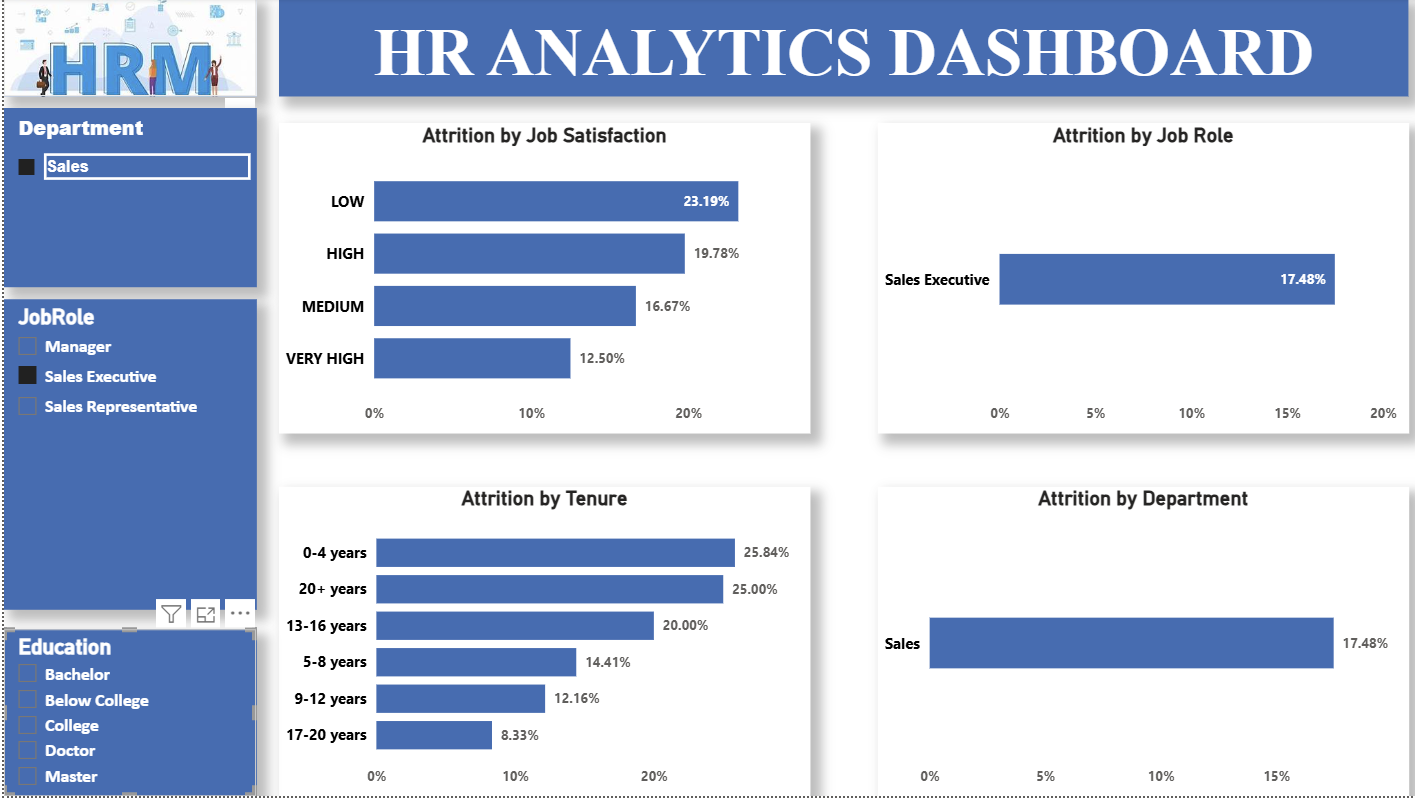

The dashboard page shown, as its layout file describes it:
{"tool":"powerbi","page":{"name":"Page 2","canvas":[1280,720],"ordinal":1},"visuals":[{"type":"textbox","title":"HR ANALYTICS DASHBOARD","box":[248.4,0,1018.2,89.2],"z":0},{"type":"image","box":[0,0,227.8,89.2],"z":1000},{"type":"slicer","fields":{"Values":["hr_cleaned.Department"]},"box":[0,98.8,227.8,161.9],"z":2000},{"type":"slicer","fields":{"Values":["hr_cleaned.JobRole"]},"box":[0,271.7,227.8,279.9],"z":3000},{"type":"slicer","fields":{"Values":["hr_cleaned.Education"]},"box":[0,569.1,227.8,150.9],"z":4000},{"type":"barChart","title":"Attrition by Department","fields":{"Y":["hr_cleaned.Attrition rate"],"Category":["hr_cleaned.Department"]},"box":[787.7,440.5,478.9,279.9],"z":5000},{"type":"barChart","title":"Attrition by Job Role","fields":{"Category":["hr_cleaned.JobRole"],"Y":["hr_cleaned.Attrition rate"]},"box":[787.7,112.5,478.9,279.9],"z":6000},{"type":"barChart","title":"Attrition by Job Satisfaction","fields":{"Category":["hr_cleaned.Job Sarisfaction"],"Y":["hr_cleaned.Attrition rate"]},"box":[248.4,112.5,478.9,279.9],"z":7000},{"type":"barChart","title":"Attrition by Tenure","fields":{"Category":["hr_cleaned.Tenure group"],"Y":["hr_cleaned.Attrition rate"]},"box":[248.4,440.5,478.9,279.9],"z":8000}]}

Visuals, with their boxes in screenshot pixels (x1, y1, x2, y2), scaled from the page's 1280x720 canvas onto the 1415x802 screenshot:
"HR ANALYTICS DASHBOARD" textbox: 275,0,1400,99
image: 0,0,252,99
slicer - hr_cleaned.Department: 0,110,252,290
slicer - hr_cleaned.JobRole: 0,303,252,614
slicer - hr_cleaned.Education: 0,634,252,801
"Attrition by Department" barChart: 871,491,1400,801
"Attrition by Job Role" barChart: 871,125,1400,437
"Attrition by Job Satisfaction" barChart: 275,125,804,437
"Attrition by Tenure" barChart: 275,491,804,801
